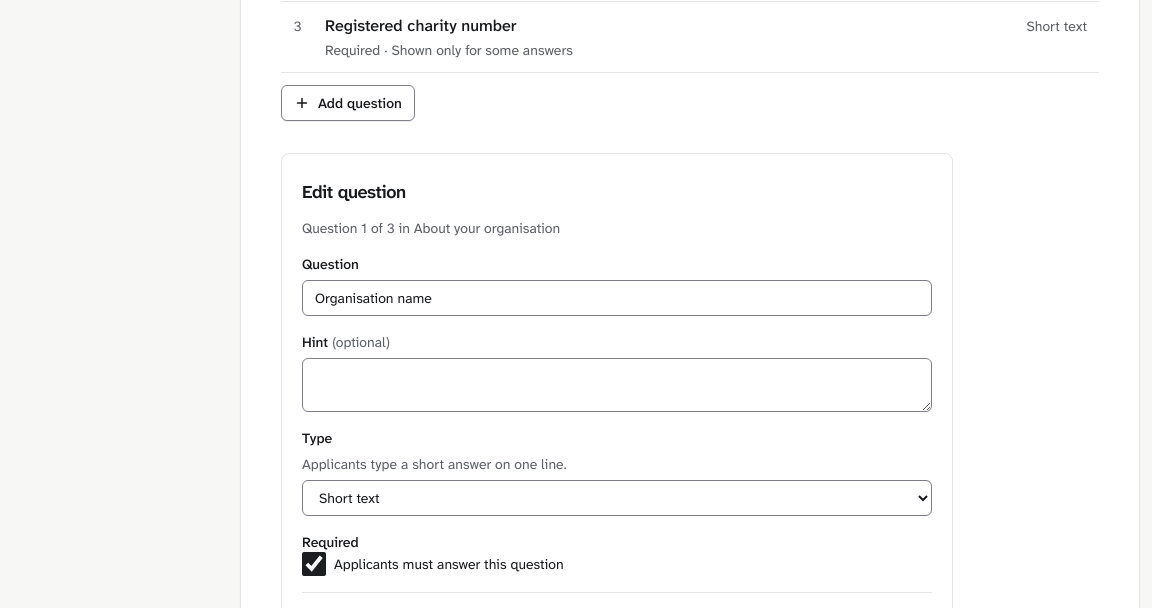
Test: publishing a draft › saves the changes first, then publishes, and shows the published version
(page scrolled)
Type "!" into the field labelled "Question".
click(617, 298); type("!")  # box [302,280,932,316]
(page scrolled)
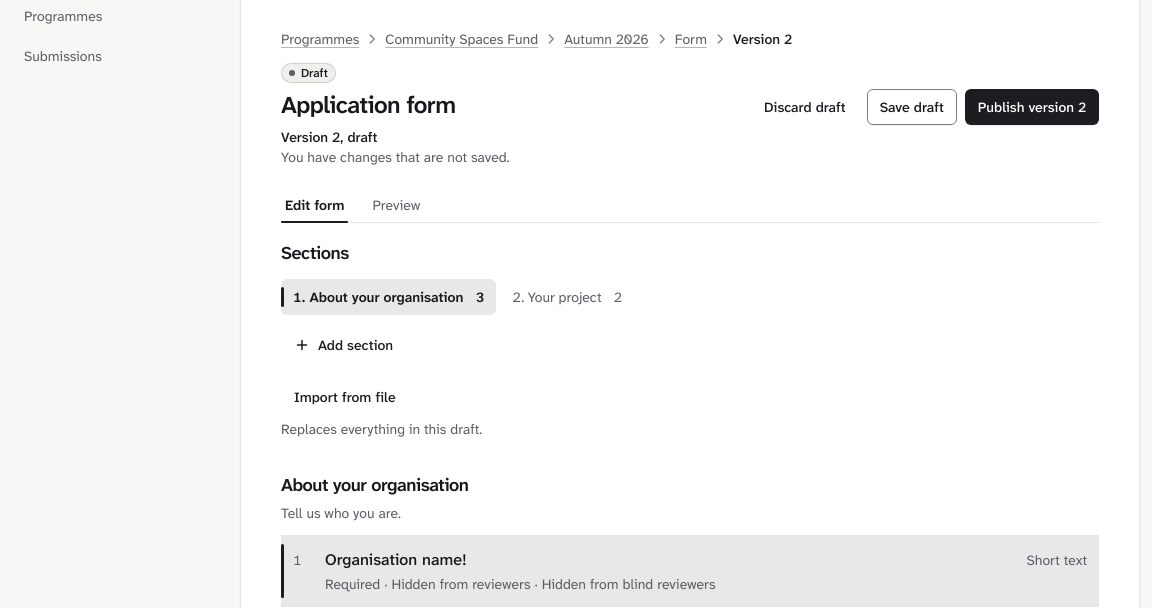
Click the button "Publish version 2".
click(1032, 107)  # box [965,89,1099,125]
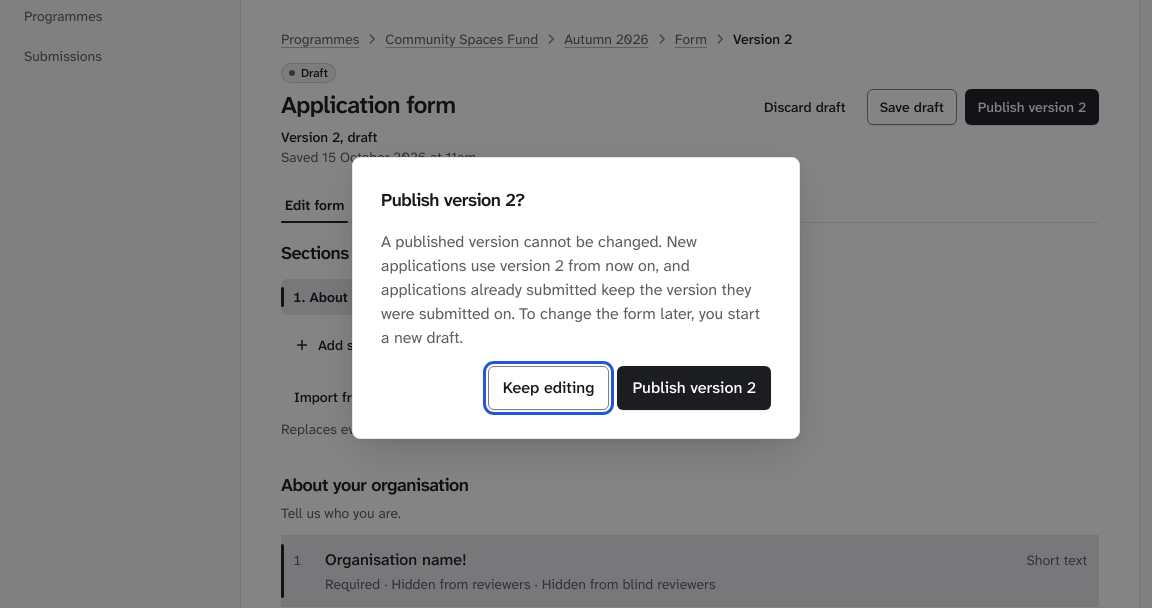
Click the button "Publish version 2".
click(694, 388)  # box [617,366,771,410]
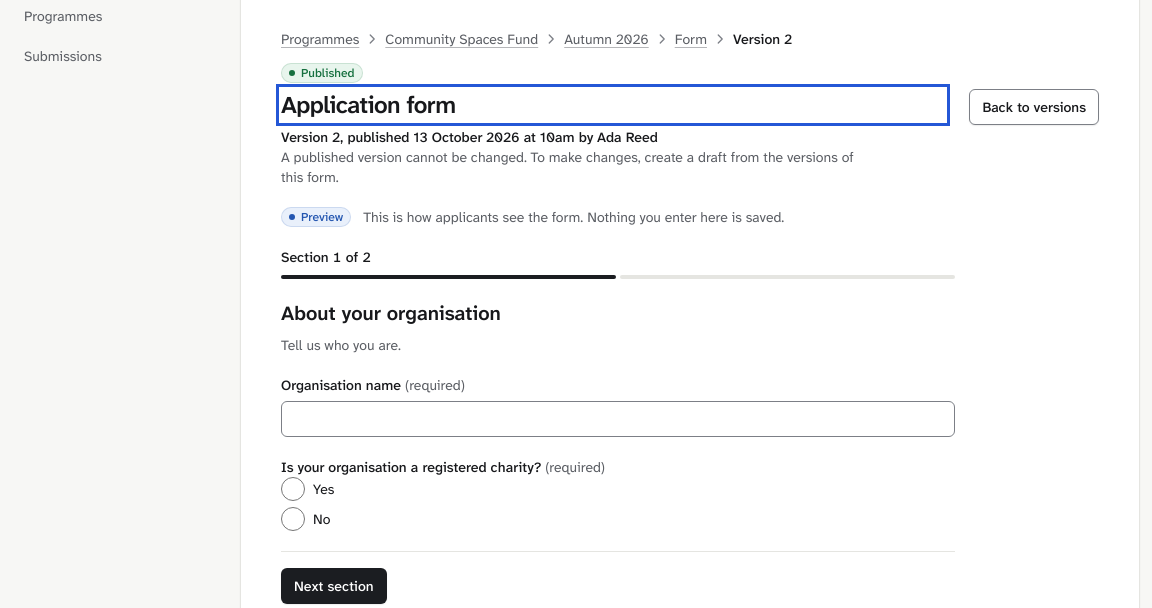
Expected: the text "Version 2, published 13 October 2026 at 10am by Ada Reed" is shown, [281,128,658,146]
Expected: the button "Save draft" is gone
Expected: the text "Published" is shown, [281,63,362,83]
